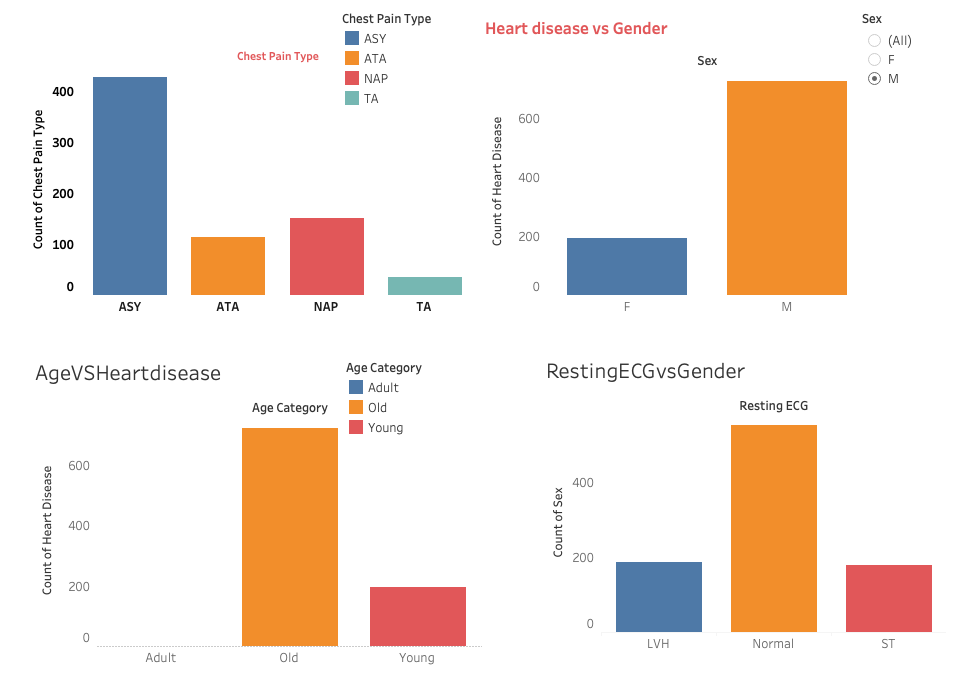

Layout of this report page (visuals, bound fields, positions):
{"tool":"tableau","page":{"name":"Dashboard 1","canvas":[1000,800],"ordinal":0},"visuals":[{"type":"filter","title":"Chest_Pain","param":"[federated.1rx8jug1jdma6119tjp2k12np9yd].[none:Sex:nk]","box":[873,12,81,88]},{"type":"worksheet","title":"HeartDiseaseVSgender","mark":"Automatic","rows":["HeartDisease"],"cols":["Sex"],"box":[492,15,386,303]},{"type":"legend","title":"Chest_Pain","param":"[federated.1rx8jug1jdma6119tjp2k12np9yd].[none:ChestPainType:nk]","box":[362,26,118,102]},{"type":"worksheet","title":"Chest_Pain","mark":"Bar","rows":["ChestPainType"],"cols":["ChestPainType"],"box":[33,33,452,285]},{"type":"worksheet","title":"RestingECGvsGender","mark":"Bar","rows":["Sex"],"cols":["RestingECG"],"box":[553,354,404,301]},{"type":"worksheet","title":"AgeVSHeartdisease","mark":"Bar","rows":["HeartDisease"],"cols":["Calculation_920001008619126785"],"box":[42,356,451,313]},{"type":"legend","title":"AgeVSHeartdisease","param":"[federated.1rx8jug1jdma6119tjp2k12np9yd].[none:Calculation_920001008619126785:nk","box":[357,361,140,78]}]}

Visuals, with their boxes on the page's 1000x800 design canvas (x1, y1, x2, y2). These are canvas units, not pixel positions in the 959x676 screenshot, which may show the page scaled, cropped or inside an application window:
"Chest_Pain" filter: [873, 12, 954, 100]
"HeartDiseaseVSgender" worksheet: [492, 15, 878, 318]
"Chest_Pain" legend: [362, 26, 480, 128]
"Chest_Pain" worksheet (Bar marks): [33, 33, 485, 318]
"RestingECGvsGender" worksheet (Bar marks): [553, 354, 957, 655]
"AgeVSHeartdisease" worksheet (Bar marks): [42, 356, 493, 669]
"AgeVSHeartdisease" legend: [357, 361, 497, 439]
